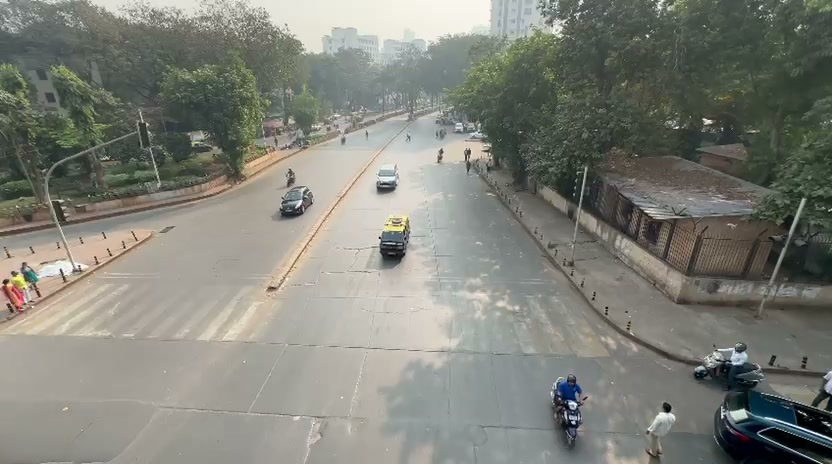car: (712, 383, 832, 462), (378, 214, 410, 257), (279, 185, 314, 216), (375, 165, 399, 192)
motorcycle: (555, 396, 587, 450)
pedestrian: (644, 401, 676, 462), (557, 374, 586, 423), (2, 274, 29, 313), (19, 262, 43, 303), (809, 368, 832, 410), (727, 342, 749, 383), (436, 147, 444, 164)
truck: (378, 214, 411, 256)
